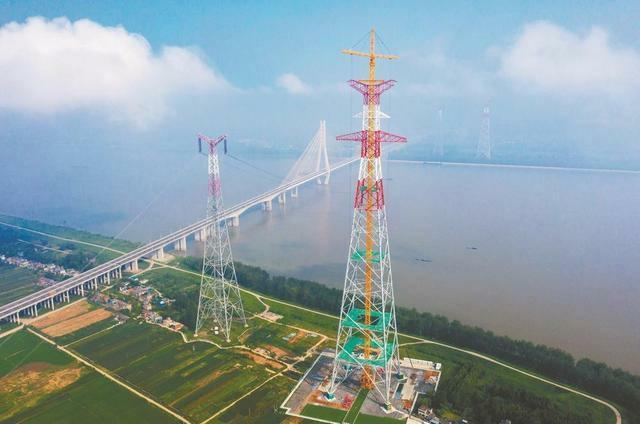power_tower: (316, 78, 410, 406), (186, 126, 246, 346)
